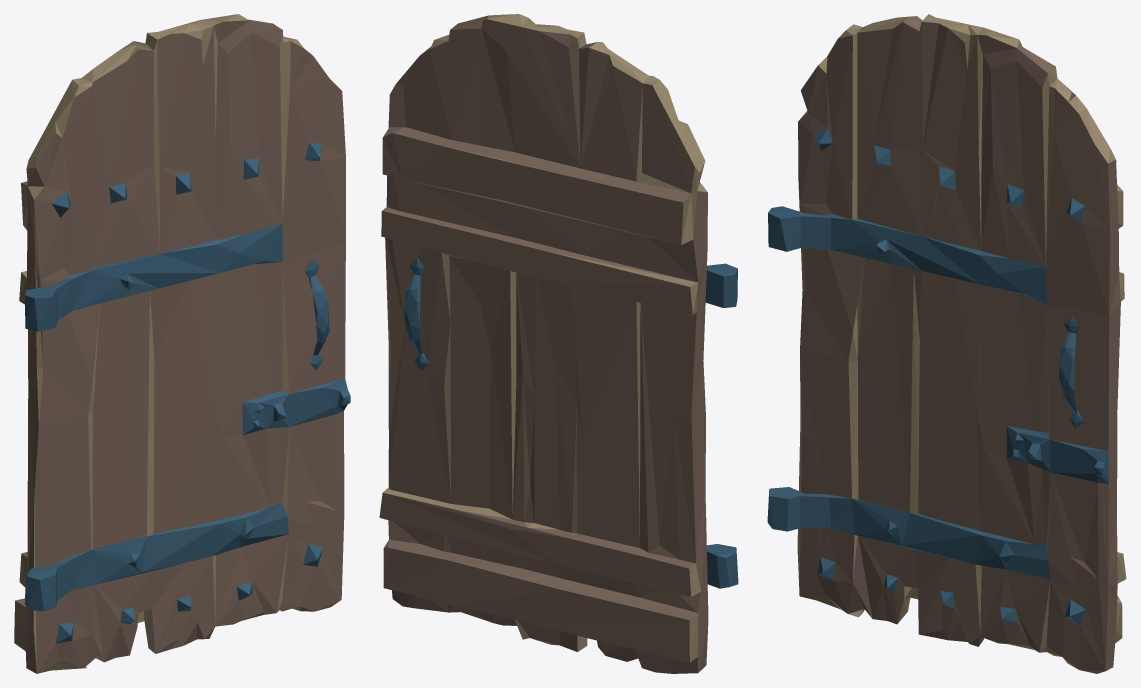
Rendered from Medieval_Door_CurvedShort.FBX.
The picture shows the model from 3 angles, left to right: view 1: azimuth 30°, elevation 25°; view 2: azimuth 150°, elevation 25°; view 3: azimuth 330°, elevation 25°; orthographic projection.
Visible parts, largest first — view 1: Medieval_Door_CurvedShort_LOD0; view 2: Medieval_Door_CurvedShort_LOD0; view 3: Medieval_Door_CurvedShort_LOD0.
Part boxes in pixels (x1,y1,x2,y2): Medieval_Door_CurvedShort_LOD0: (14,14,350,673); Medieval_Door_CurvedShort_LOD0: (379,14,738,673); Medieval_Door_CurvedShort_LOD0: (767,14,1126,673).
Size of what is drawn, in the model's own units: 1.16 by 2.06 by 0.233.
